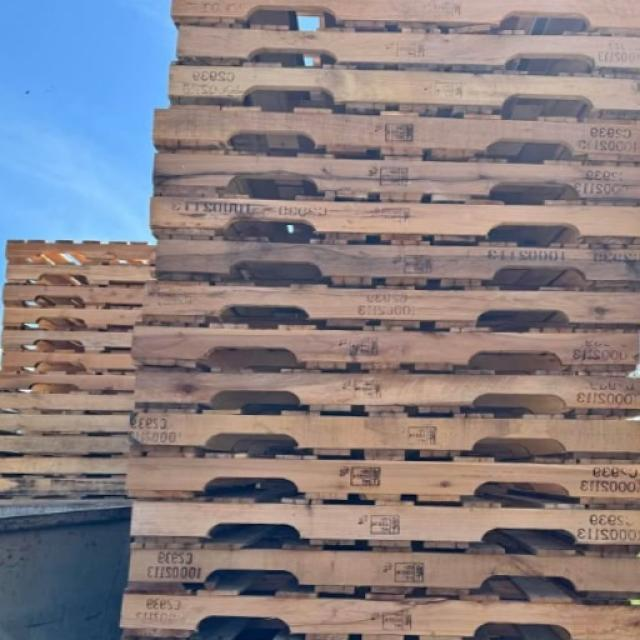non-igps: (114, 526, 640, 618), (142, 130, 640, 220), (110, 436, 640, 520), (121, 487, 640, 572), (156, 46, 640, 136), (144, 95, 640, 181), (145, 220, 640, 306), (123, 346, 640, 428), (120, 393, 640, 473), (121, 306, 640, 386), (131, 266, 640, 344), (141, 182, 639, 260), (170, 12, 640, 86), (109, 576, 640, 640), (164, 0, 640, 46), (0, 229, 164, 273), (0, 400, 142, 444), (0, 275, 153, 315), (1, 256, 166, 292), (0, 318, 143, 359), (0, 466, 142, 507), (0, 297, 152, 335), (0, 380, 143, 420), (0, 361, 144, 400), (0, 342, 147, 379), (0, 442, 134, 482), (0, 425, 139, 463)
